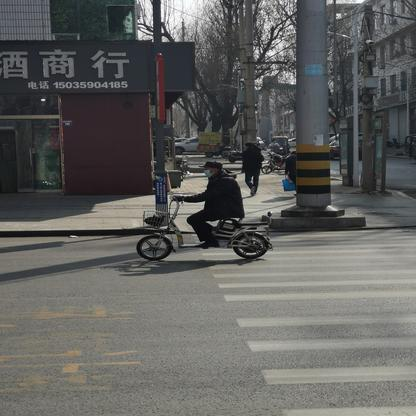target: (134, 161, 274, 263)
